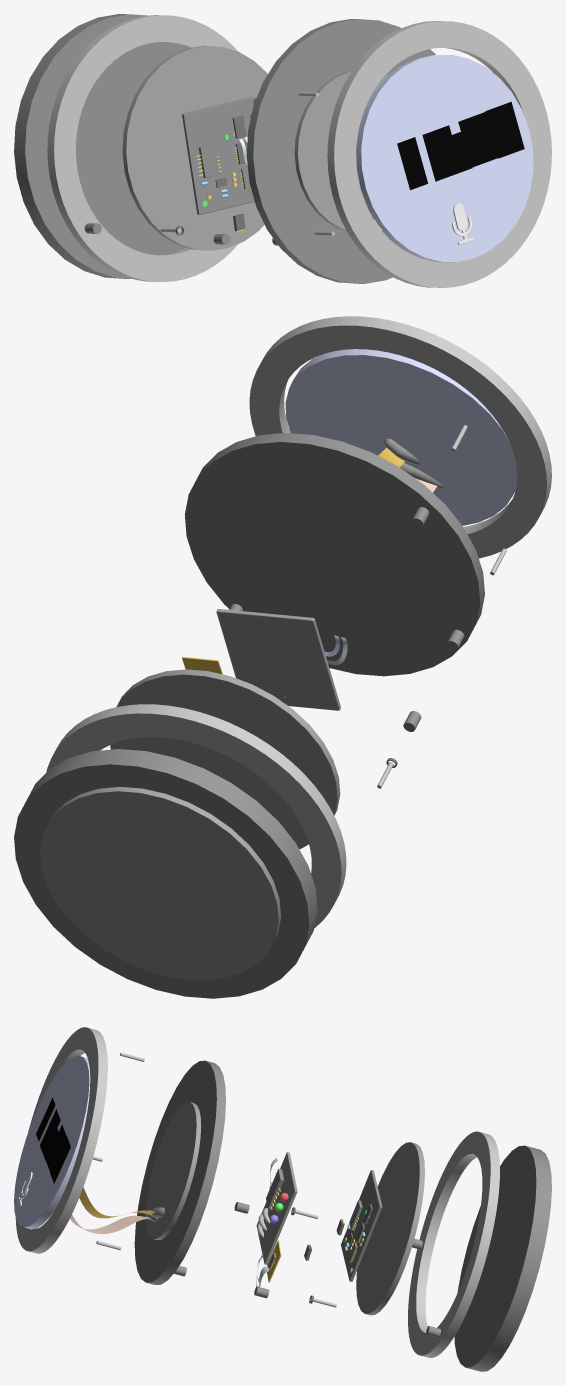
File: muddy_snow_2025-01-26_15.37.12.gltf
The picture shows the model from 3 angles, top to bottom: view 1: azimuth 30°, elevation 25°; view 2: azimuth 150°, elevation 25°; view 3: azimuth 270°, elevation 25°; orthographic projection. The views are drawn at different scales.
Parts seen in each view (by area): view 1: Cylinder (×5), Tube (×2), LODGroup (×2), CustomTextMesh, 3D Icon Microphone; view 2: Cylinder (×5), Tube (×2), LODGroup; view 3: Cylinder (×5), Tube (×2), LODGroup (×3), CustomTextMesh.
Boxes of the visible parts, left/top/right/bottom form: Cylinder (×5): left=14, top=14, right=533, bottom=283; Tube (×2): left=47, top=15, right=551, bottom=287; LODGroup (×2): left=182, top=97, right=255, bottom=214; CustomTextMesh: left=397, top=101, right=524, bottom=190; 3D Icon Microphone: left=451, top=203, right=474, bottom=244; Cylinder (×5): left=14, top=349, right=517, bottom=998; Tube (×2): left=46, top=316, right=551, bottom=927; LODGroup: left=216, top=609, right=340, bottom=710; Cylinder (×5): left=14, top=1055, right=551, bottom=1371; Tube (×2): left=15, top=1027, right=499, bottom=1357; LODGroup (×3): left=70, top=1152, right=382, bottom=1281; CustomTextMesh: left=36, top=1098, right=70, bottom=1183.
Size of what is drawn, in the model's own units: 0.2266 by 0.2982 by 0.4232.
